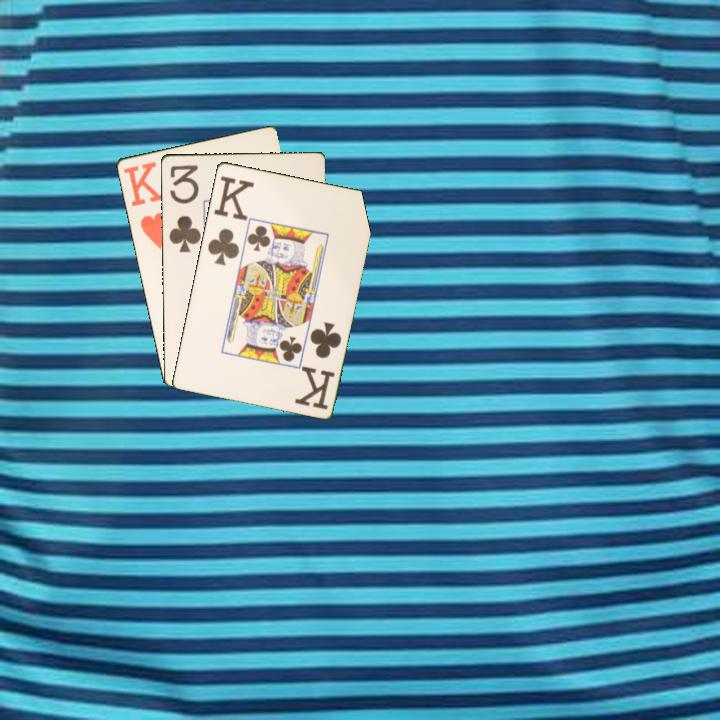3c: (165, 161, 203, 255)
Kc: (204, 172, 256, 268), (292, 318, 344, 412)
Kh: (119, 157, 171, 252)
